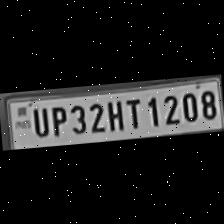0: (177, 88, 198, 123)
1: (142, 93, 160, 128)
2: (158, 90, 180, 127), (85, 99, 106, 134)
3: (66, 100, 87, 136)
8: (196, 85, 218, 120)
H: (103, 96, 125, 132)
P: (46, 100, 68, 138)
T: (123, 94, 145, 130)
U: (28, 103, 50, 138)
